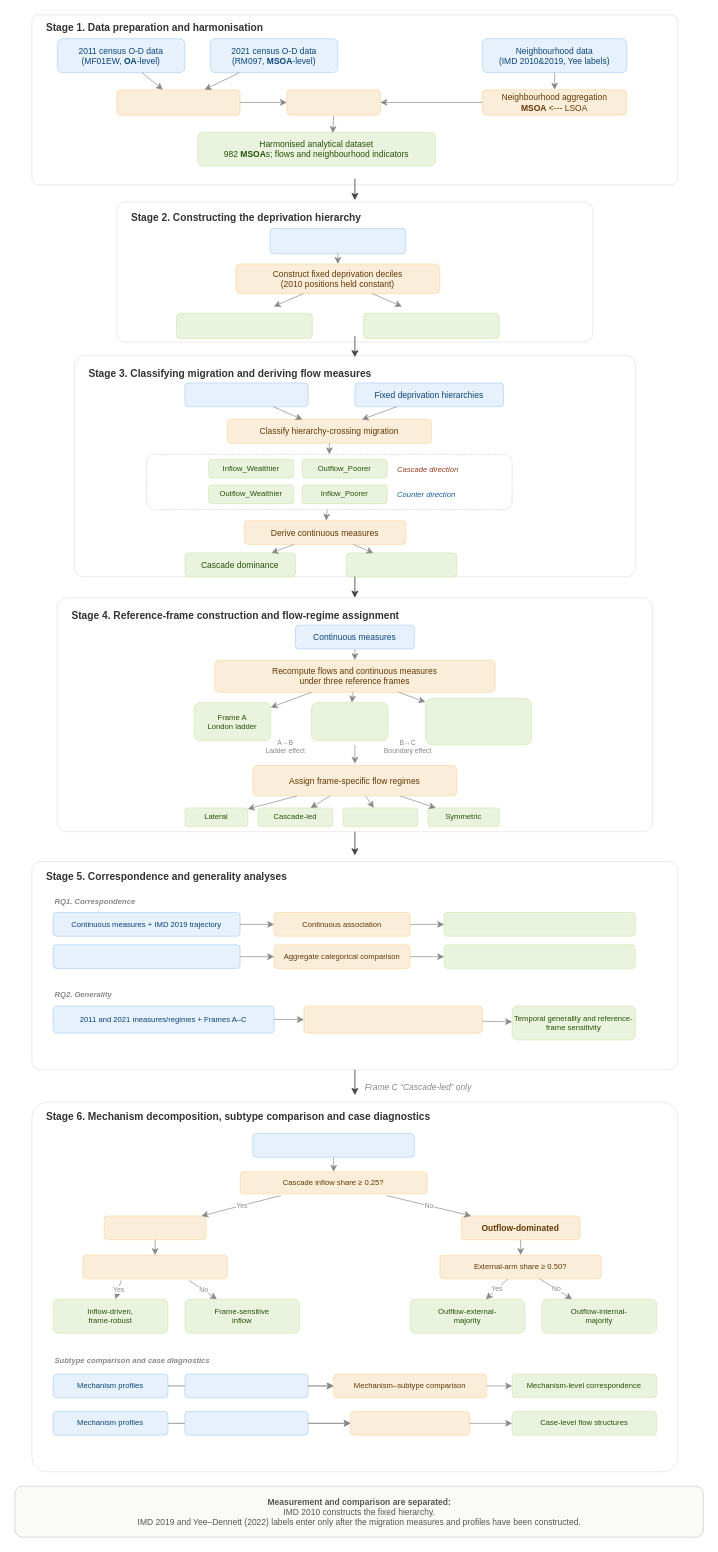
Some shapes in this 718 by 1552 pixel diagram are drawn without their labels. Each missing label, with the box of its shape:
Aggregate classification correspondence: (444, 944, 635, 968)
Cascade-led in Frame A?: (82, 1254, 227, 1279)
Case diagnostics: (350, 1411, 469, 1435)
Counter-led: (342, 807, 418, 826)
Cross-decile share: (346, 552, 457, 577)
Cross-period and cross-frame comparison: (303, 1005, 482, 1033)
England-wide hierarchy: (363, 313, 499, 339)
Flow filtering: (286, 89, 380, 115)
Flow regimes + Yee–Dennett (2022) modal labels: (53, 944, 240, 968)
Frame B National ladder: (311, 702, 388, 741)
Frame C National ladder + boundary-crossing flows: (425, 698, 532, 745)
Frame C “Cascade-led” MSOAs: (252, 1133, 414, 1157)
Harmonised O-D flows: (184, 382, 308, 407)
IMD 2010 MSOA scores: (269, 228, 406, 254)
Inflow-led: (104, 1215, 206, 1240)
London-relative hierarchy: (176, 313, 312, 339)
Neighbourhood-ascent correspondence: (444, 912, 635, 936)
Selected MSOAs: (184, 1411, 308, 1435)
Spatial harmonisation: (116, 89, 240, 115)
Yee–Dennett subtypes: (184, 1373, 308, 1398)
